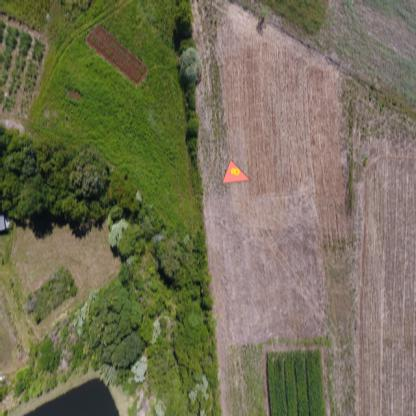8: (230, 167, 241, 176)
triangle: (222, 158, 252, 184)
